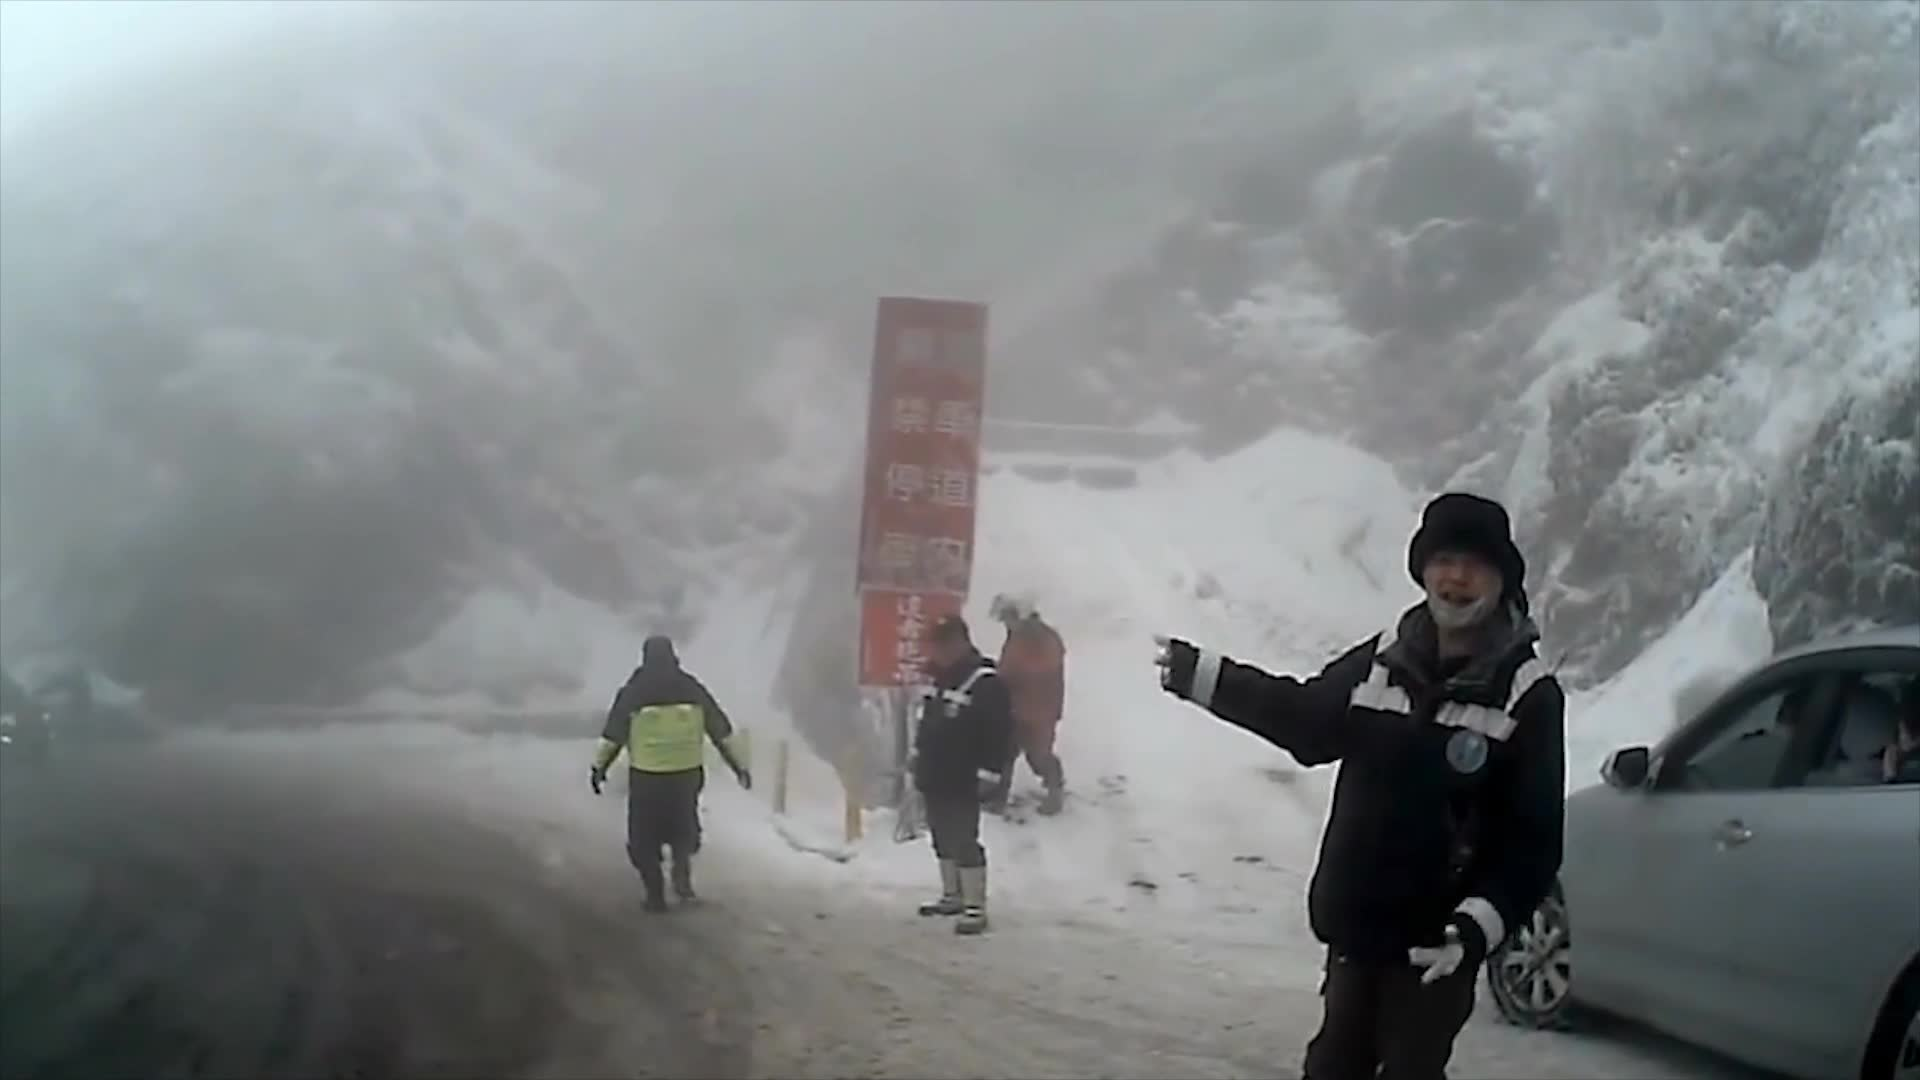pedestrian: (1151, 483, 1568, 1079), (597, 632, 750, 906), (915, 610, 1021, 933), (992, 580, 1083, 815)
vehicle: (1463, 627, 1918, 1079)
